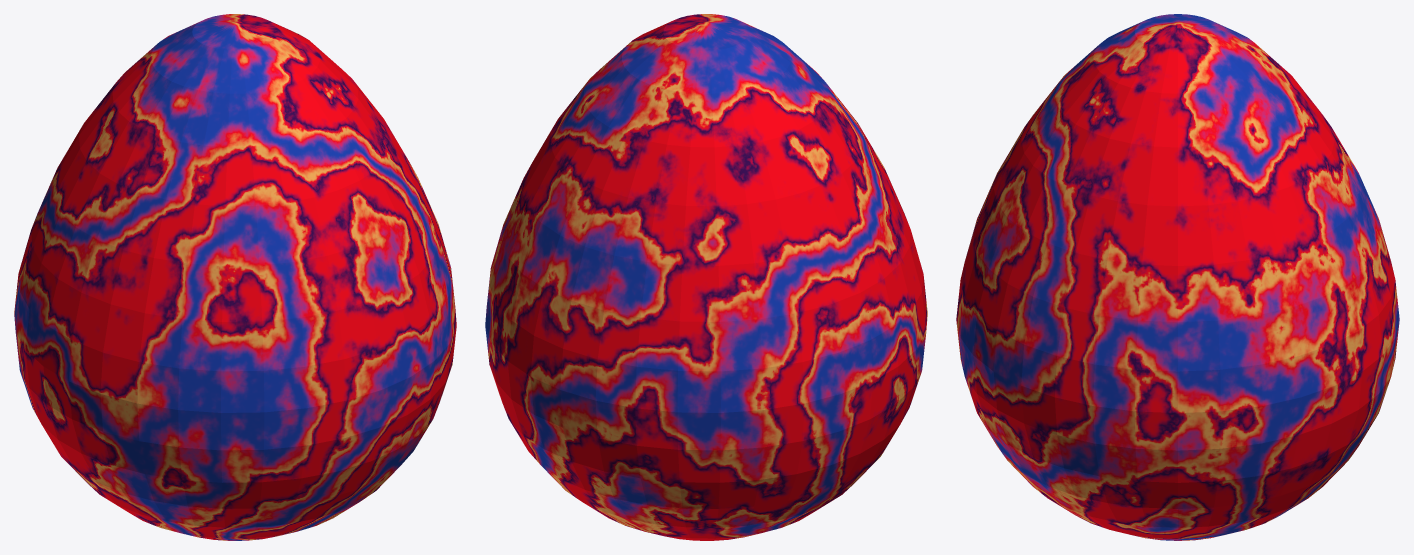
Rendered from egg4.gltf.
3 views of the same model, side by side, from view 1: azimuth 30°, elevation 25°; view 2: azimuth 150°, elevation 25°; view 3: azimuth 270°, elevation 25° (orthographic).
Parts seen in each view (by area): view 1: Huevo Diseño; view 2: Huevo Diseño; view 3: Huevo Diseño.
Boxes of the visible parts, x1=… form: Huevo Diseño: x1=14, y1=14, x2=456, y2=540; Huevo Diseño: x1=485, y1=14, x2=927, y2=540; Huevo Diseño: x1=956, y1=14, x2=1399, y2=540.
Size of the model in its own units: 2 by 2.48 by 2.
1 material, 1 textured.
